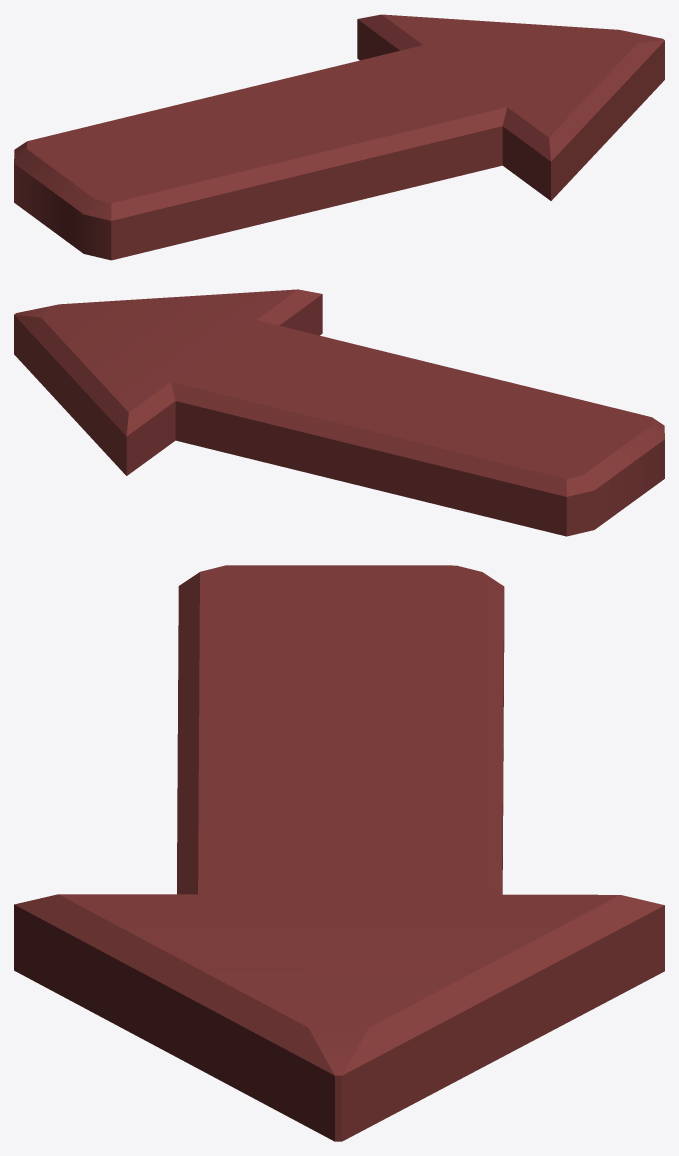
File: quaternius-platformer-game-arrow.glb
3 views of the same model, one above another, from view 1: azimuth 30°, elevation 25°; view 2: azimuth 150°, elevation 25°; view 3: azimuth 270°, elevation 25° (orthographic). The views are drawn at different scales.
Visible parts, largest first — view 1: Arrow; view 2: Arrow; view 3: Arrow.
Part boxes in pixels (x1=…): Arrow: x1=14, y1=14, x2=664, y2=260; Arrow: x1=14, y1=289, x2=664, y2=536; Arrow: x1=14, y1=565, x2=664, y2=1141.
Bounding box in the file's own units: 1.85 × 0.1473 × 1.02.
